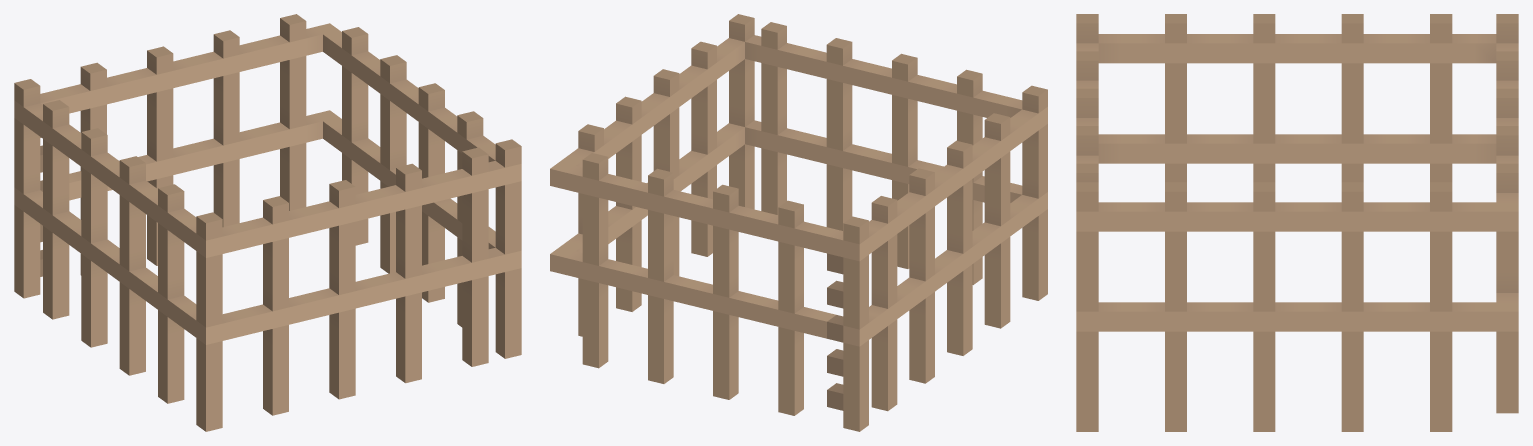
File: life_stage_scaffolding.glb
The picture shows the model from 3 angles, left to right: view 1: azimuth 30°, elevation 25°; view 2: azimuth 150°, elevation 25°; view 3: azimuth 270°, elevation 25°; orthographic projection. The views are drawn at different scales.
Visible parts, largest first — view 1: life_stage_scaffolding; view 2: life_stage_scaffolding; view 3: life_stage_scaffolding.
Boxes of the visible parts, left/top/right/bottom form: life_stage_scaffolding: left=14, top=14, right=521, bottom=431; life_stage_scaffolding: left=550, top=14, right=1047, bottom=431; life_stage_scaffolding: left=1076, top=14, right=1518, bottom=431.
Bounding box in the file's own units: 2.38 × 1.5 × 2.5.
